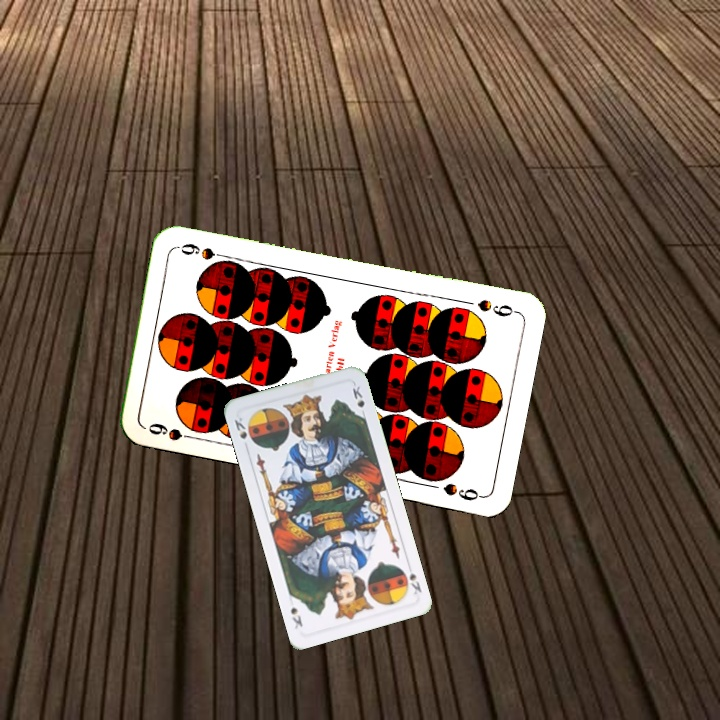S9: (144, 419, 201, 443), (473, 295, 520, 320)
SK: (403, 559, 424, 597), (230, 413, 250, 442)
